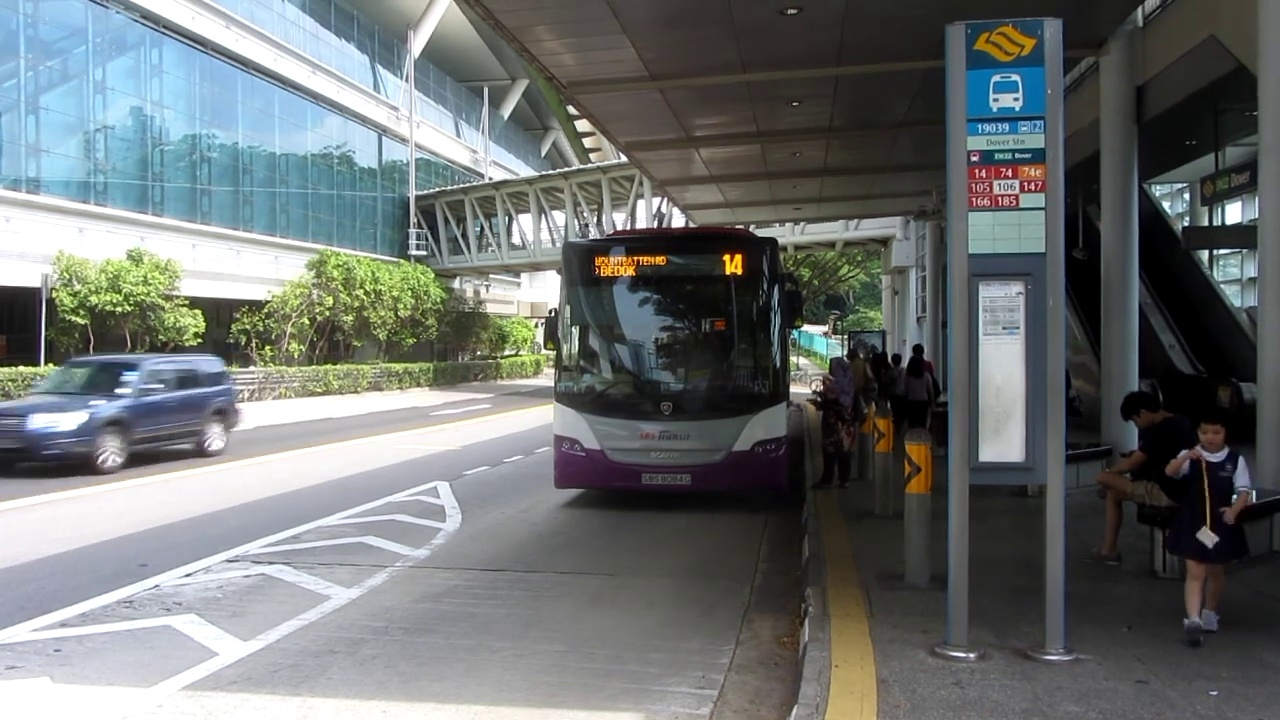bus panel: (589, 252, 748, 280)
